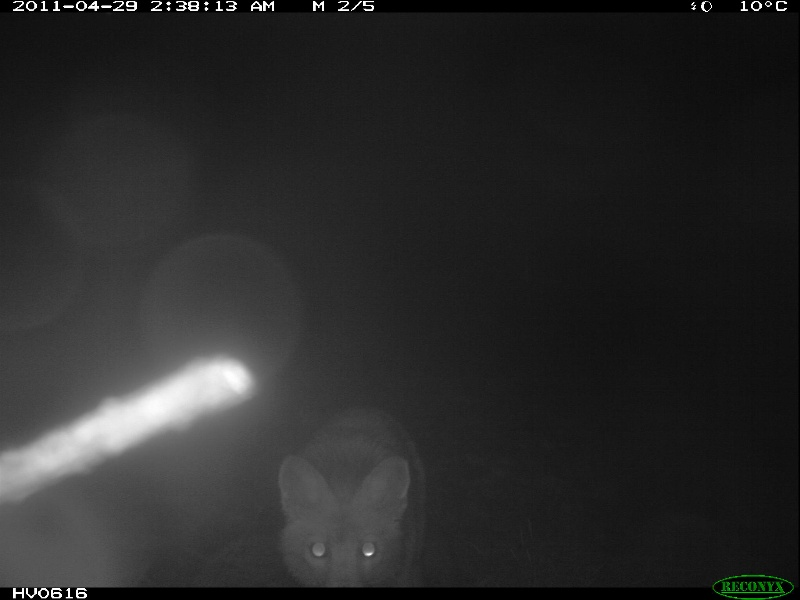fox: (268, 394, 436, 584)
